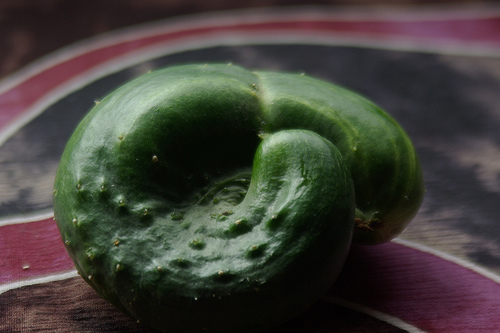cucumber: (49, 59, 424, 331)
